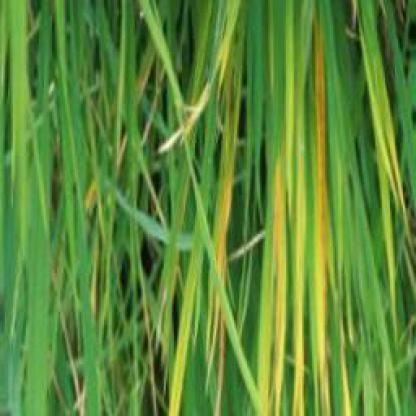Tungro: (315, 24, 344, 416), (362, 34, 408, 219), (293, 39, 313, 416), (261, 161, 289, 416), (214, 82, 238, 365), (162, 263, 204, 416), (384, 215, 400, 326)
